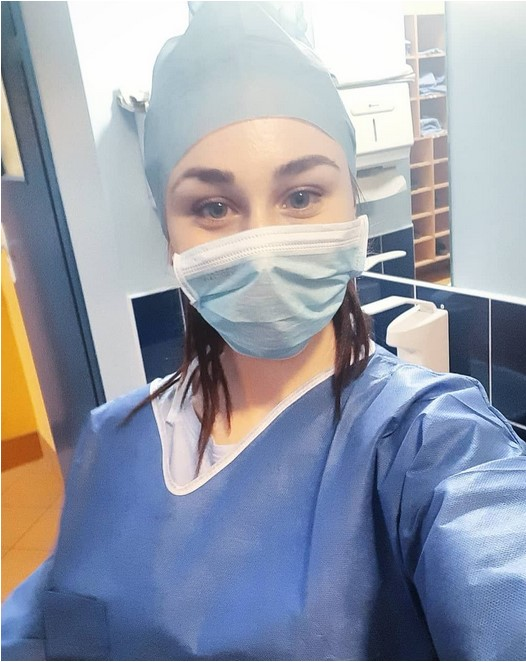face_with_mask: (135, 10, 369, 360)
